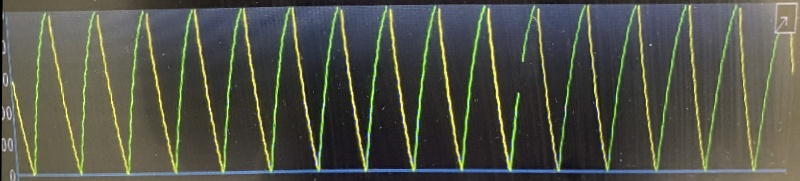normal_volume: (20, 2, 756, 177)
